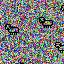sheep: (39, 16, 54, 29), (5, 23, 18, 34), (54, 41, 64, 54), (61, 5, 64, 12)
